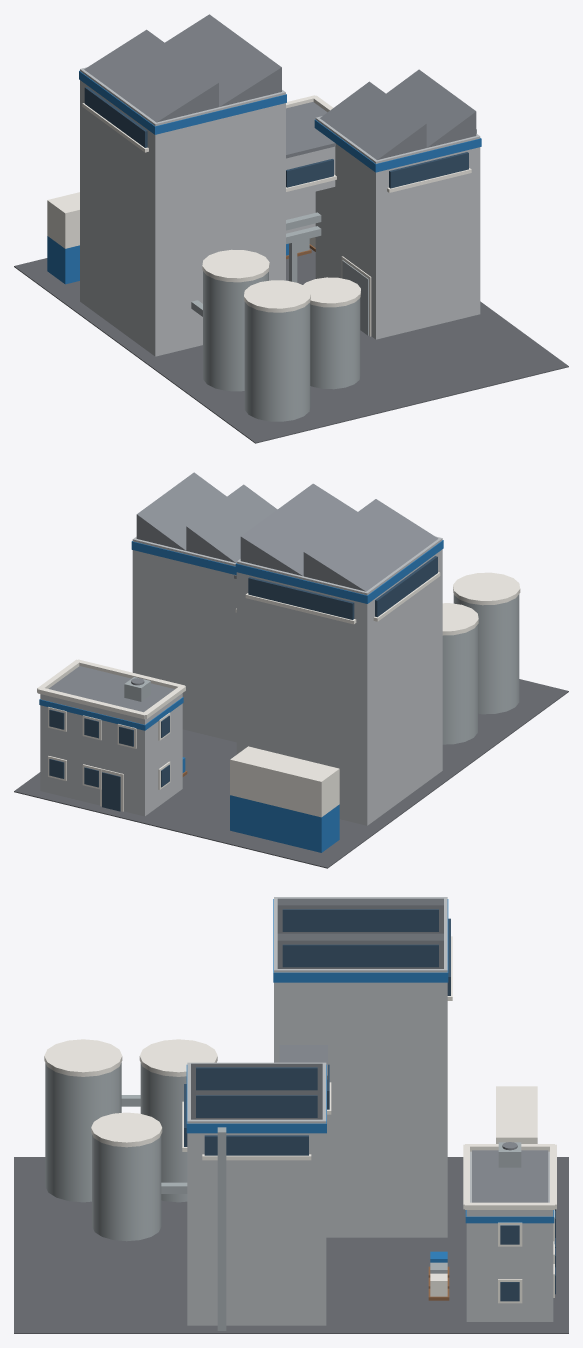
3 renders of one model, top to bottom at view 1: azimuth 30°, elevation 25°; view 2: azimuth 150°, elevation 25°; view 3: azimuth 270°, elevation 25°, orthographic. The views are drawn at different scales.
Visible parts, largest first — view 1: process_a, process_b, yard, roof (×5), storage_tank (×3), tank_top (×3), window_band (×3), cladding_band (×2), container (×2), bridge, bridge_roof, garage_door (+1 smaller); view 2: process_a, roof (×5), process_b, yard, office, container (×2), storage_tank (×2), window_band (×2), cladding_band (×2), tank_top (×2), parapet (×2), accent_stripe (+2 smaller); view 3: yard, process_a, process_b, storage_tank (×3), skylight (×4), roof (×5), office, tank_top (×3), cladding_band (×2), container, window_band, pipe (+4 smaller).
Boxes of the visible parts, x1=… form: process_a: x1=80, y1=67, x2=285, y2=356; process_b: x1=315, y1=116, x2=480, y2=339; yard: x1=14, y1=248, x2=568, y2=443; roof (×5): x1=84, y1=14, x2=476, y2=159; storage_tank (×3): x1=203, y1=271, x2=360, y2=421; tank_top (×3): x1=202, y1=249, x2=360, y2=312; window_band (×3): x1=84, y1=87, x2=468, y2=188; cladding_band (×2): x1=79, y1=70, x2=481, y2=172; container (×2): x1=47, y1=192, x2=79, y2=284; bridge: x1=286, y1=146, x2=335, y2=198; bridge_roof: x1=286, y1=127, x2=335, y2=158; garage_door: x1=342, y1=260, x2=368, y2=335; process_a: x1=236, y1=536, x2=442, y2=825; roof (×5): x1=49, y1=472, x2=438, y2=712; process_b: x1=132, y1=536, x2=236, y2=742; yard: x1=14, y1=679, x2=568, y2=868; office: x1=40, y1=693, x2=182, y2=816; container (×2): x1=230, y1=746, x2=339, y2=852; storage_tank (×2): x1=442, y1=594, x2=519, y2=744; window_band (×2): x1=248, y1=556, x2=437, y2=619; cladding_band (×2): x1=131, y1=540, x2=443, y2=603; tank_top (×2): x1=442, y1=572, x2=520, y2=635; parapet (×2): x1=37, y1=659, x2=184, y2=719; accent_stripe: x1=39, y1=697, x2=183, y2=730; yard: x1=14, y1=1157, x2=568, y2=1333; process_a: x1=274, y1=897, x2=447, y2=1237; process_b: x1=187, y1=1062, x2=326, y2=1325; storage_tank (×3): x1=45, y1=1062, x2=187, y2=1241; skylight (×4): x1=196, y1=909, x2=438, y2=1117; roof (×5): x1=191, y1=898, x2=548, y2=1202; office: x1=466, y1=1151, x2=553, y2=1321; tank_top (×3): x1=44, y1=1039, x2=217, y2=1147; cladding_band (×2): x1=186, y1=899, x2=448, y2=1133; container: x1=496, y1=1086, x2=537, y2=1143; window_band: x1=204, y1=1135, x2=308, y2=1155; pipe: x1=217, y1=1136, x2=226, y2=1330.
Size of the model in its own units: 24 by 18.87 by 32.
